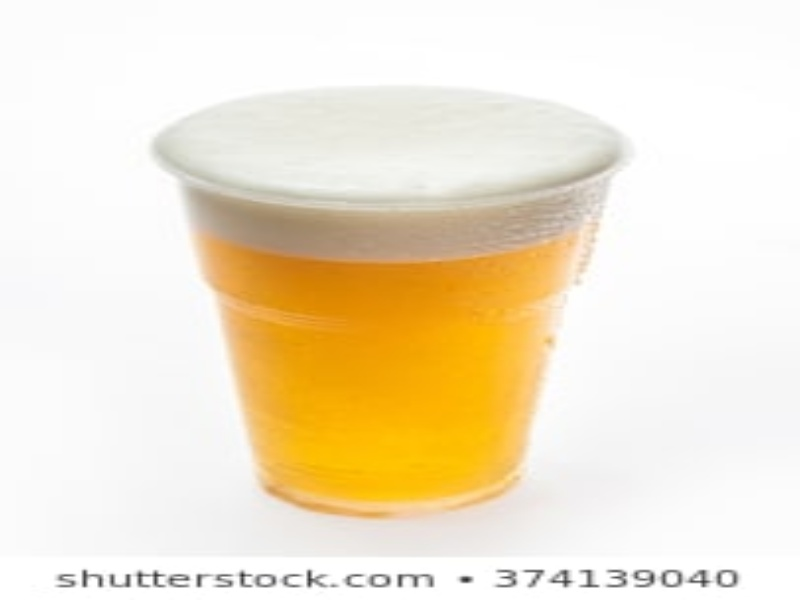plastic-cup: (145, 80, 640, 521)
